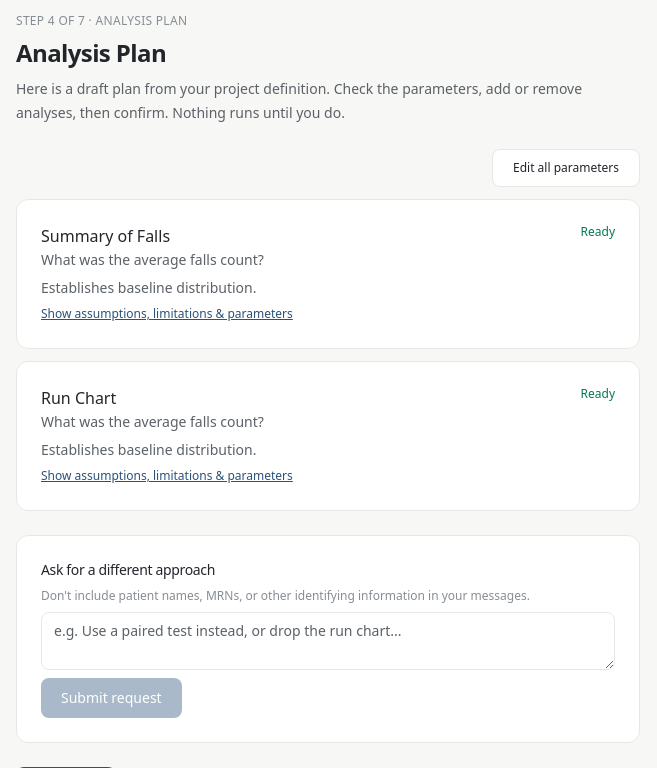
Test: AnalysisPlanStage rich plan review › removes an analysis card and updates the plan
This screenshot has width=657, height=768.
Expected: the text "Summary of Falls" is shown, x1=41 y1=225 x2=170 y2=247
Expected: the text "Run Chart" is shown, x1=41 y1=387 x2=116 y2=409
Click the button "Show assumptions, limitations & parameters" below "Summary of Falls" at x=167, y=314, box x1=41 y1=306 x2=293 y2=322
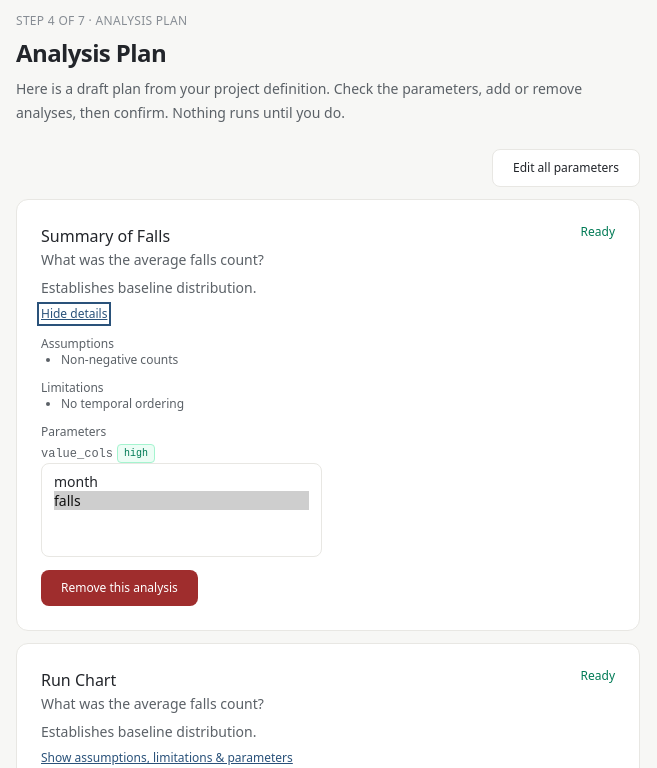
Click the button "Remove this analysis" at x=119, y=588, box x1=41 y1=570 x2=198 y2=606
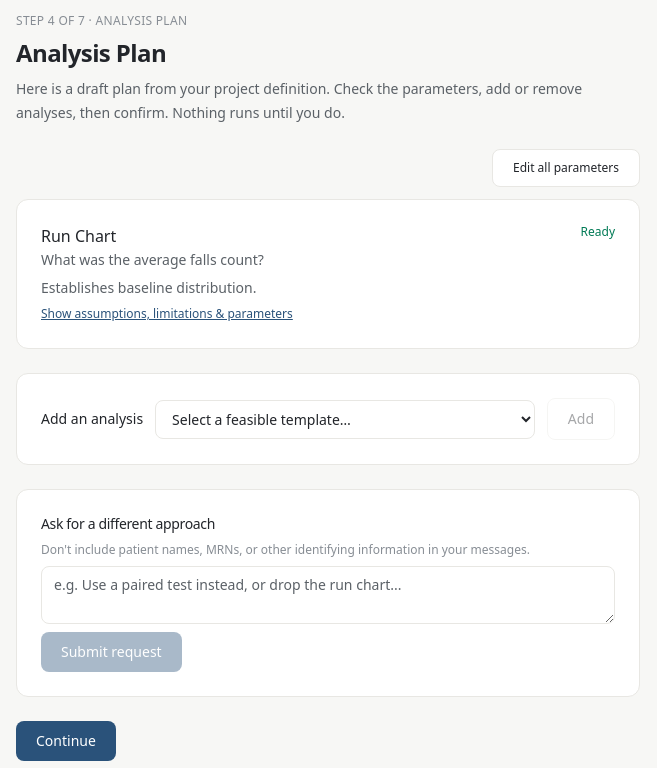
Expected: the text "Run Chart" is shown, x1=41 y1=225 x2=116 y2=247
Result: the text "Summary of Falls" is gone
